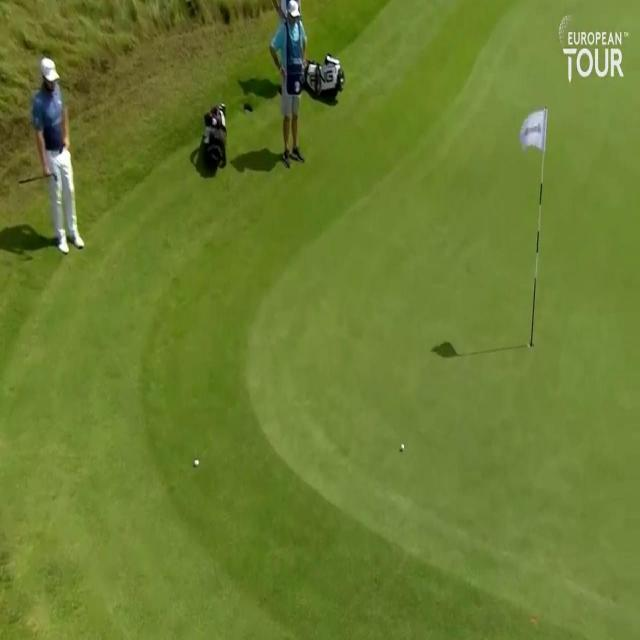GolfBall: (190, 454, 203, 470), (398, 436, 408, 456)
